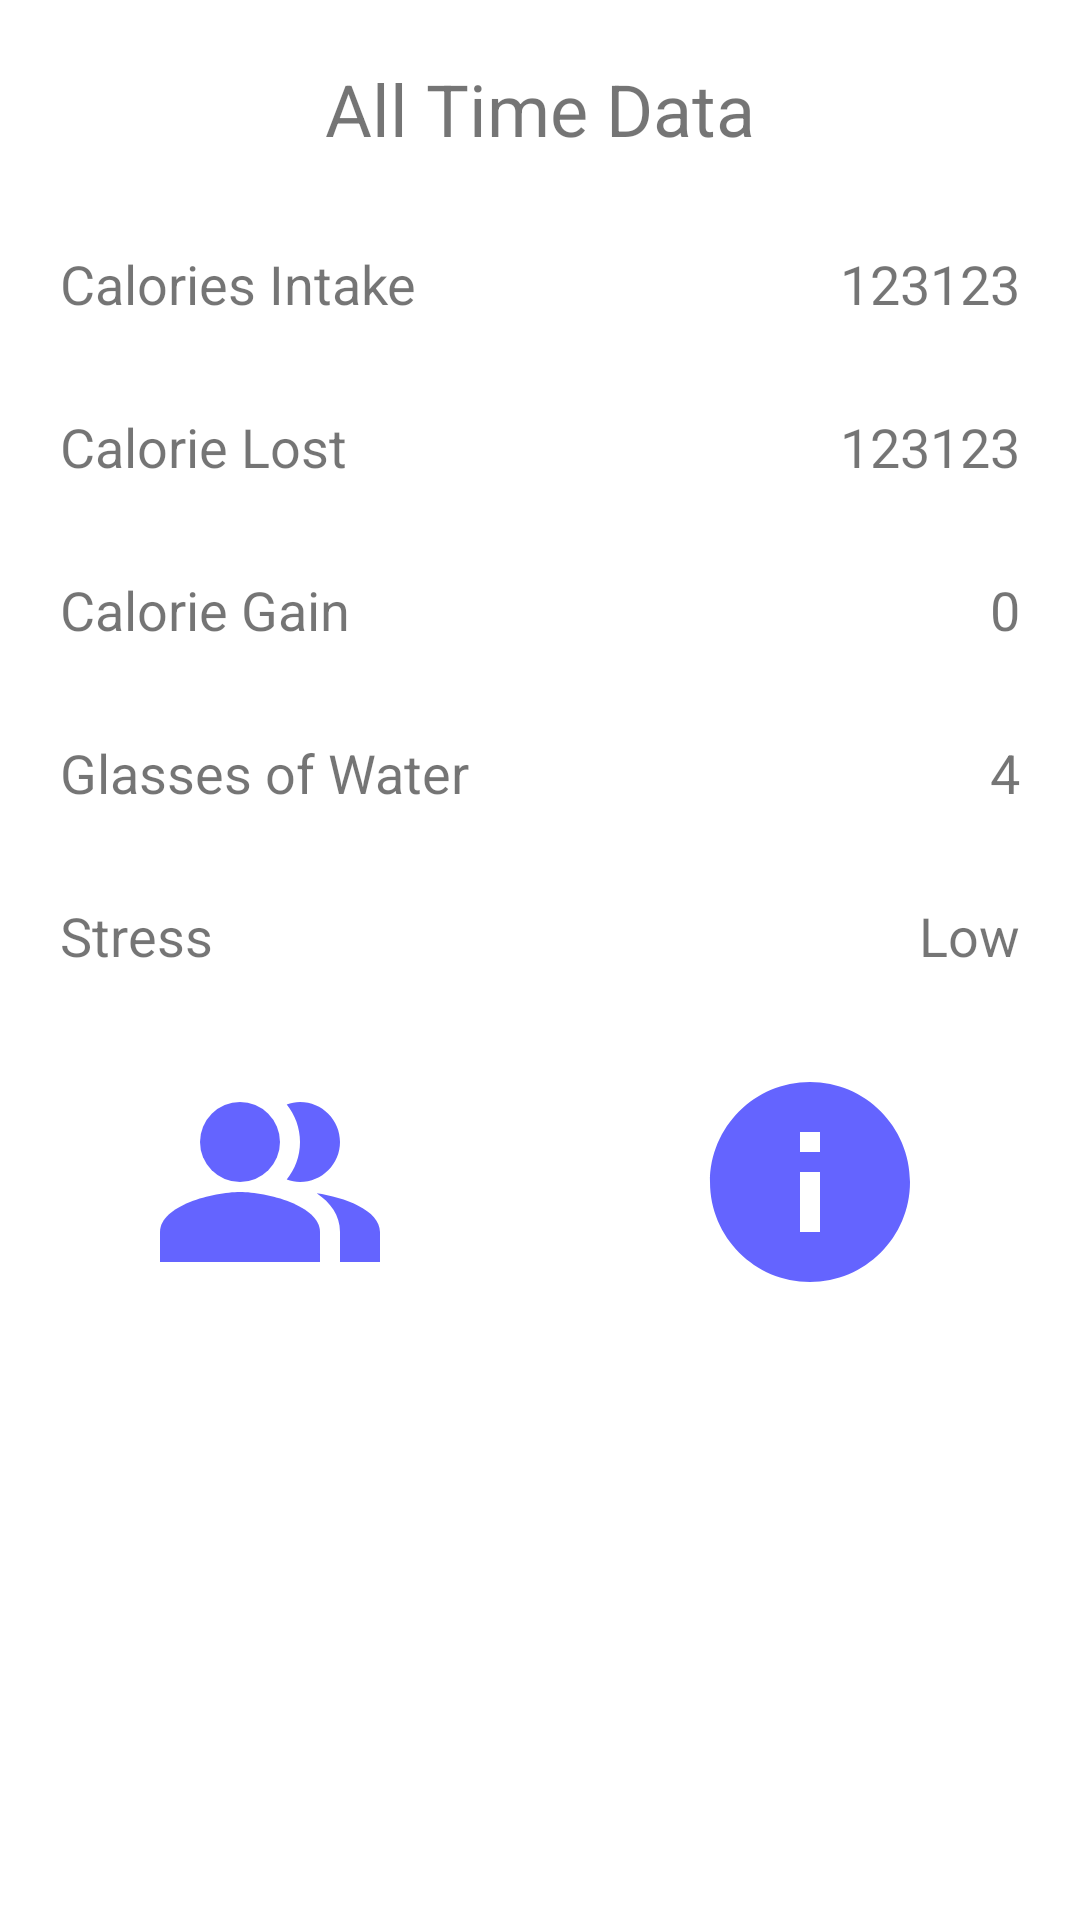

Point at icon controls on the screen. Image size 1080 x 1920, points as [x,y].
info: [810,1182]
people: [270,1182]
